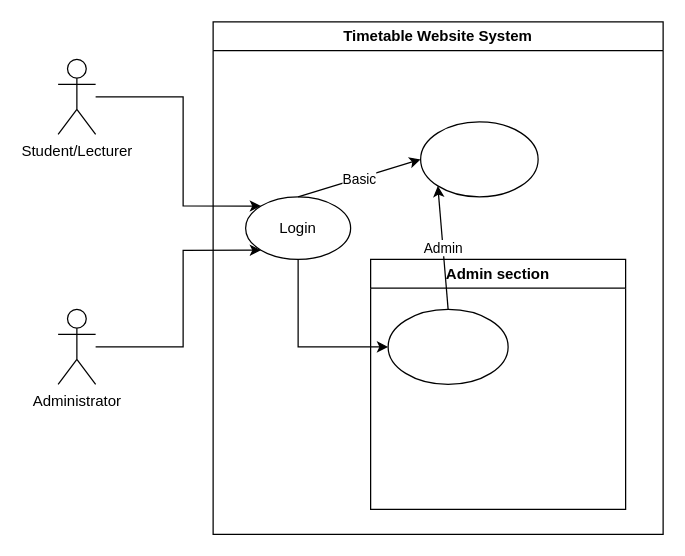
Some shapes in this 685 by 556 pixel diagram are drawn without their labels. Here are the shapes that lost their labels. From the top down, the centre of each, then its label:
At (478,159): "Timetable viewer".
At (447,346): "Admin selection hub".
